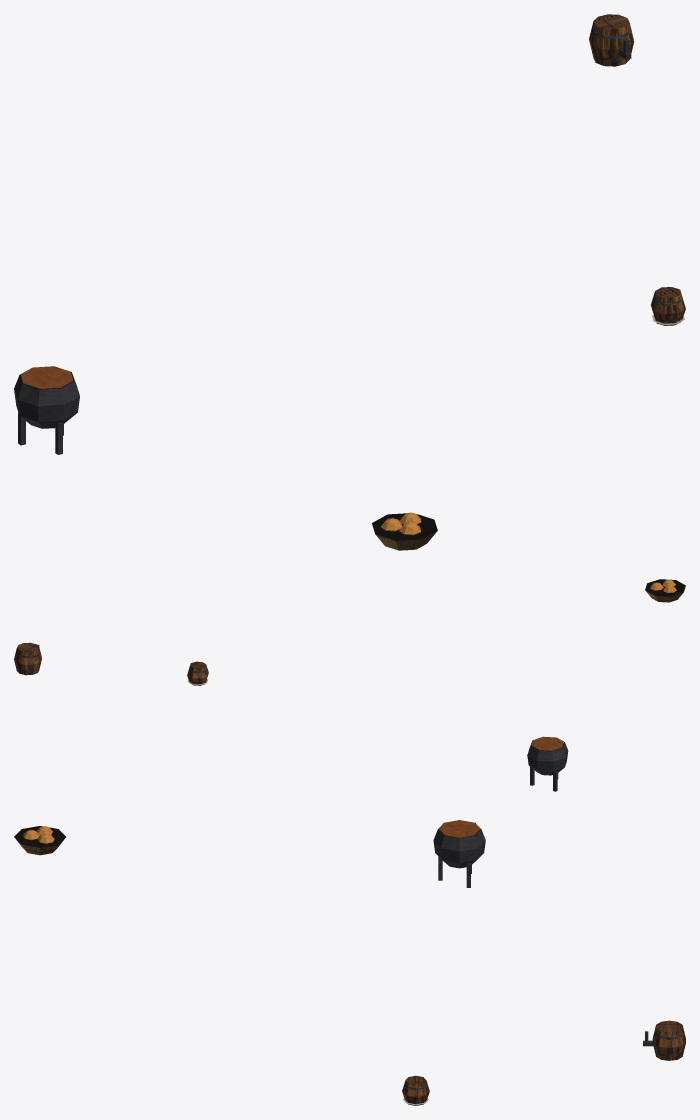
The model's file is props.glb.
3 views of the same model, one above another, from view 1: azimuth 30°, elevation 25°; view 2: azimuth 150°, elevation 25°; view 3: azimuth 270°, elevation 25° (orthographic). The views are drawn at different scales.
Visible parts, largest first — view 1: Station_Pot, Station_Tap, Station_Bread, Item_Cask, Station_PotStew; view 2: Station_Pot, Station_Tap, Station_Bread, Item_Cask, Station_PotStew; view 3: Station_Pot, Station_Tap, Station_Bread, Item_Cask, Station_PotStew.
Part boxes in pixels (box(x1,y1,x2,y2)): Station_Pot: box(14, 368, 79, 454); Station_Tap: box(589, 14, 634, 66); Station_Bread: box(372, 512, 437, 550); Item_Cask: box(651, 287, 685, 325); Station_PotStew: box(20, 366, 73, 388); Station_Pot: box(527, 738, 568, 791); Station_Tap: box(14, 642, 41, 675); Station_Bread: box(645, 579, 685, 602); Item_Cask: box(187, 661, 208, 685); Station_PotStew: box(531, 736, 563, 750); Station_Pot: box(433, 822, 485, 887); Station_Tap: box(643, 1020, 685, 1060); Station_Bread: box(14, 826, 65, 855); Item_Cask: box(402, 1075, 429, 1105); Station_PotStew: box(439, 820, 480, 837).
Size of the model in its own units: 7.6 by 1.46 by 7.69.
10 materials, 10 textured.
